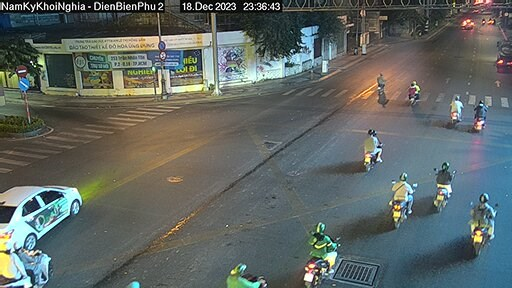car: (5, 178, 78, 245)
motorbike: (300, 223, 343, 282), (463, 189, 490, 257), (385, 172, 414, 227), (358, 127, 380, 169), (434, 158, 450, 209), (447, 93, 467, 127), (474, 103, 490, 137), (405, 80, 423, 107)
